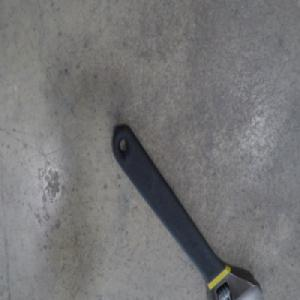AdjustableWrench: (111, 124, 265, 300)
